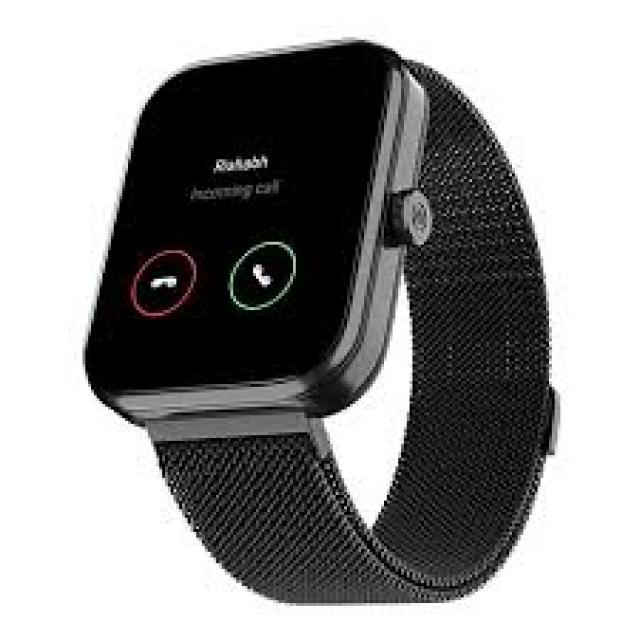objects: (85, 43, 552, 600)
